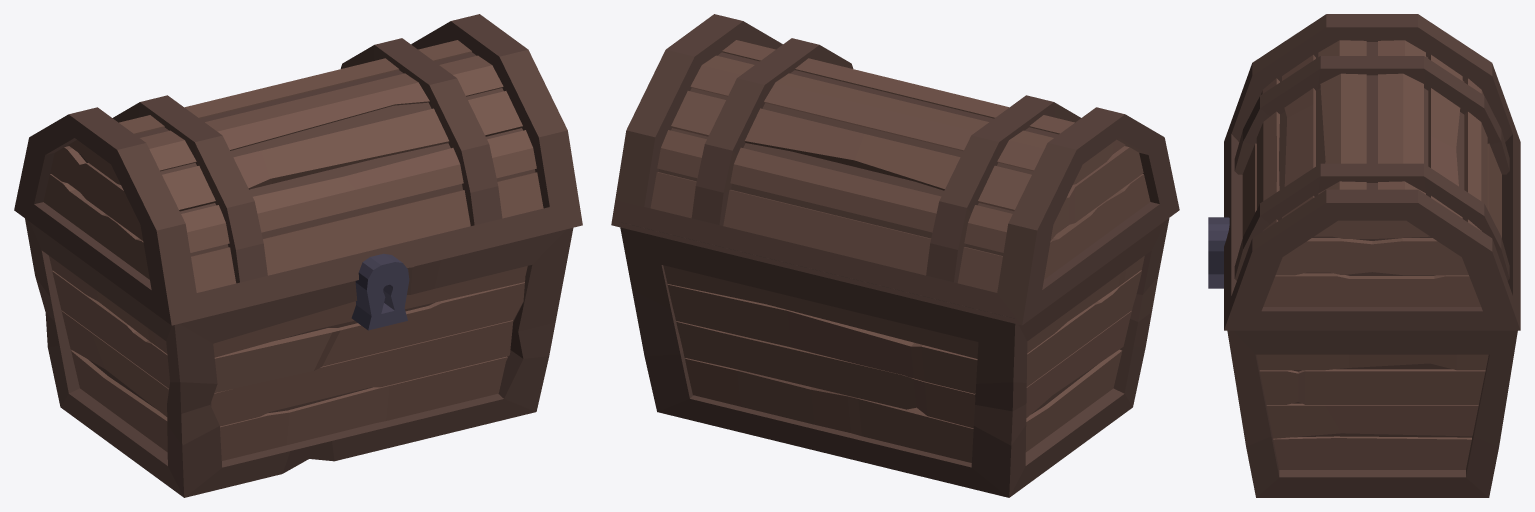
The model's file is Chest.fbx.
3 views of the same model, side by side, from view 1: azimuth 30°, elevation 25°; view 2: azimuth 150°, elevation 25°; view 3: azimuth 270°, elevation 25° (orthographic). The views are drawn at different scales.
Visible parts, largest first — view 1: Chest_Top, Chest_Base; view 2: Chest_Top, Chest_Base; view 3: Chest_Top, Chest_Base.
Boxes of the visible parts, x1,y1,x2,y2 form: Chest_Top: (14, 14, 582, 325); Chest_Base: (25, 218, 573, 497); Chest_Top: (611, 14, 1179, 325); Chest_Base: (620, 218, 1169, 497); Chest_Top: (1224, 14, 1520, 330); Chest_Base: (1208, 217, 1517, 497).
Bounding box in the file's own units: 118 × 89.85 × 82.38.
